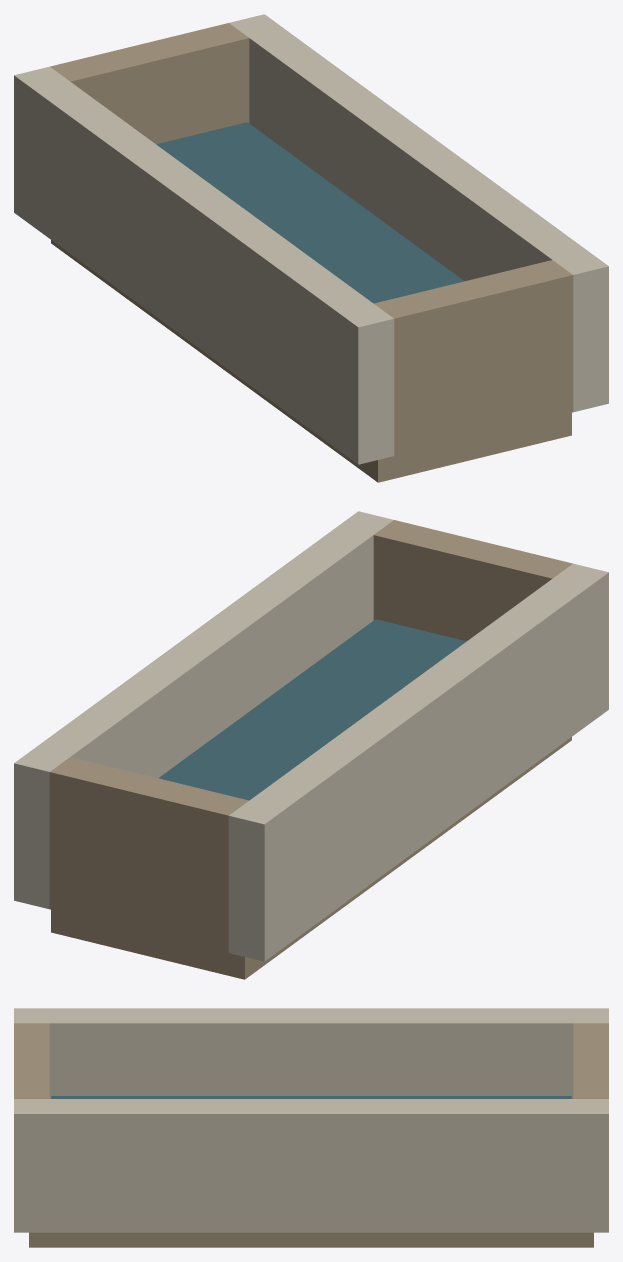
File: Trough__Water.fbx
The picture shows the model from 3 angles, top to bottom: view 1: azimuth 30°, elevation 25°; view 2: azimuth 150°, elevation 25°; view 3: azimuth 270°, elevation 25°; orthographic projection. The views are drawn at different scales.
Parts seen in each view (by area): view 1: Trough__Water; view 2: Trough__Water; view 3: Trough__Water.
Part boxes in pixels (box(x1,y1,x2,y2)): Trough__Water: box(14, 14, 608, 482); Trough__Water: box(14, 511, 608, 979); Trough__Water: box(14, 1008, 608, 1247).
Size of the model in its own units: 84 by 54 by 200.
Materials: 1 (1 with a texture image).
